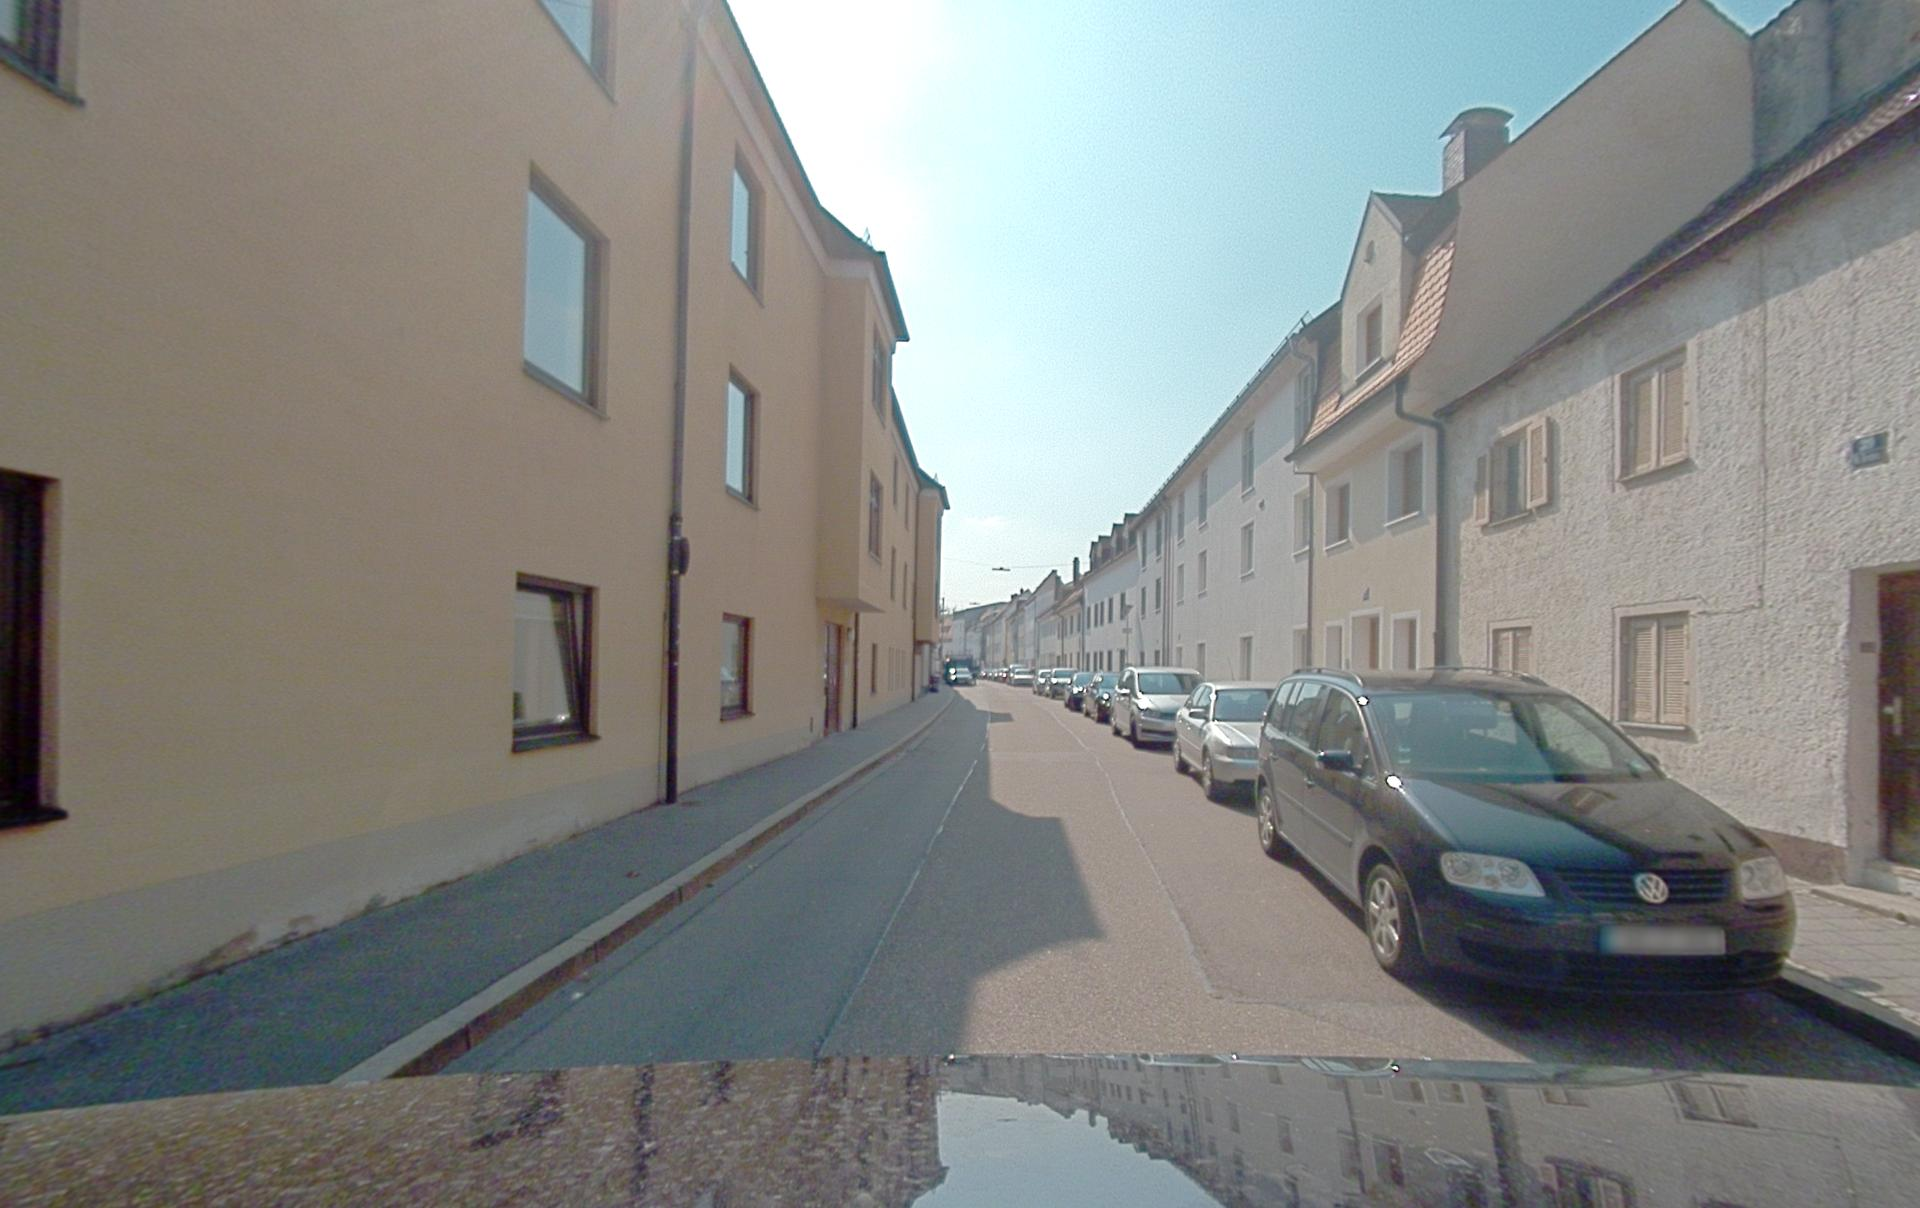car: (1255, 669, 1794, 991), (1173, 682, 1273, 799), (1110, 667, 1201, 747), (1081, 672, 1117, 723), (1063, 671, 1092, 710), (1047, 668, 1074, 698), (1033, 669, 1051, 694)
